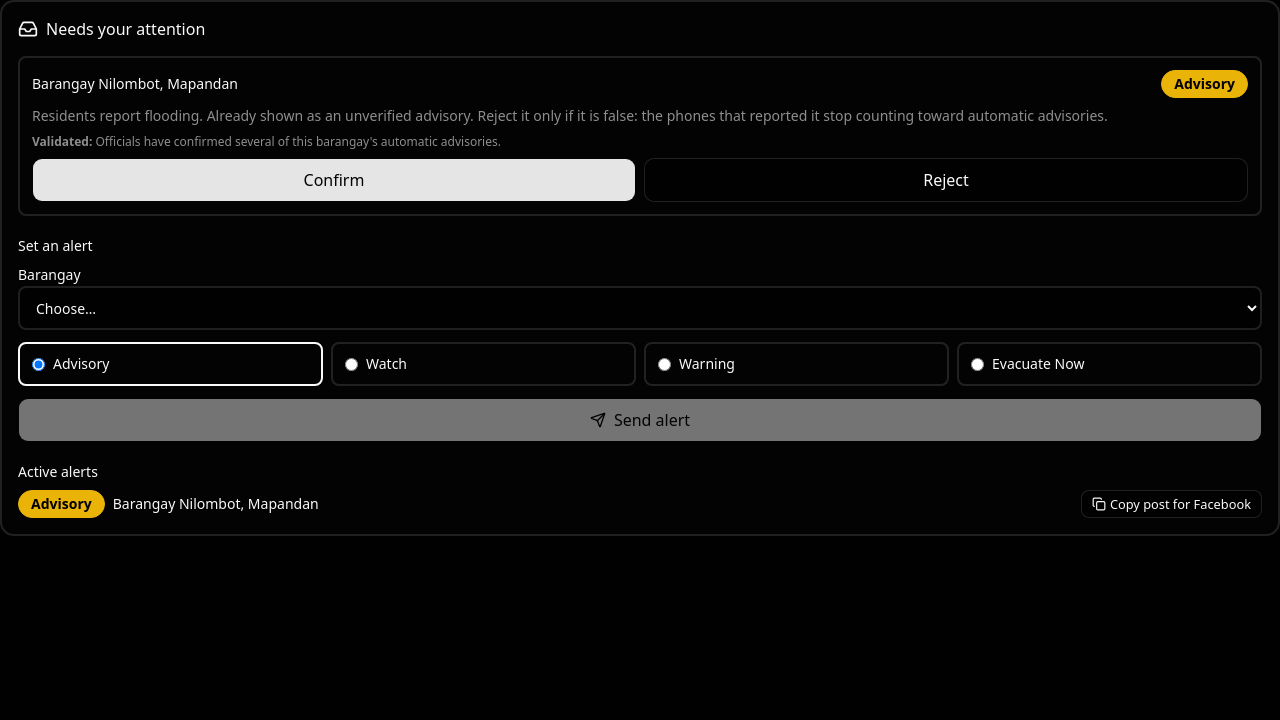
Scenario: OfficialInbox (ideas 4, 5, 13) › records a rejection rather than a plain clear, and warns what it costs (layer 6)
Expected: the text "reject it only if it is false" is shown, [32,106,1108,125]
Click the button "Reject": (946, 180) [644,158,1248,202]
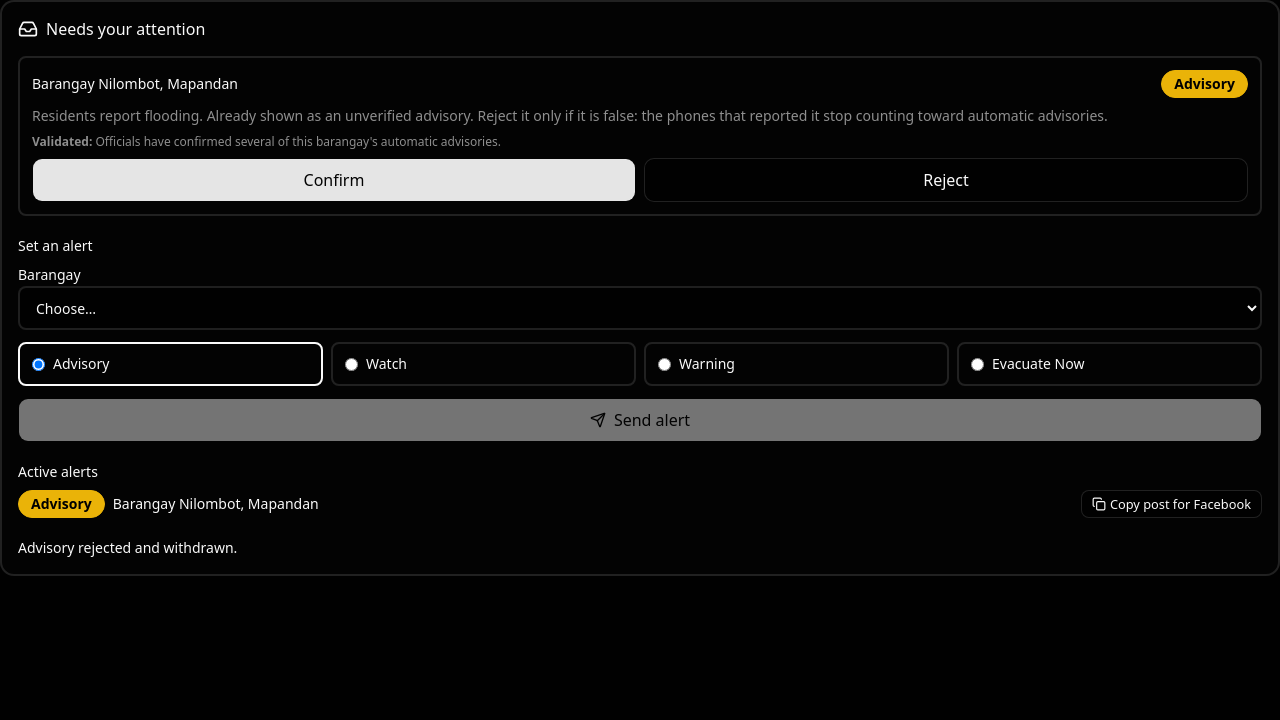
Expected: the text "Advisory rejected and withdrawn." is shown, [18,538,237,557]
